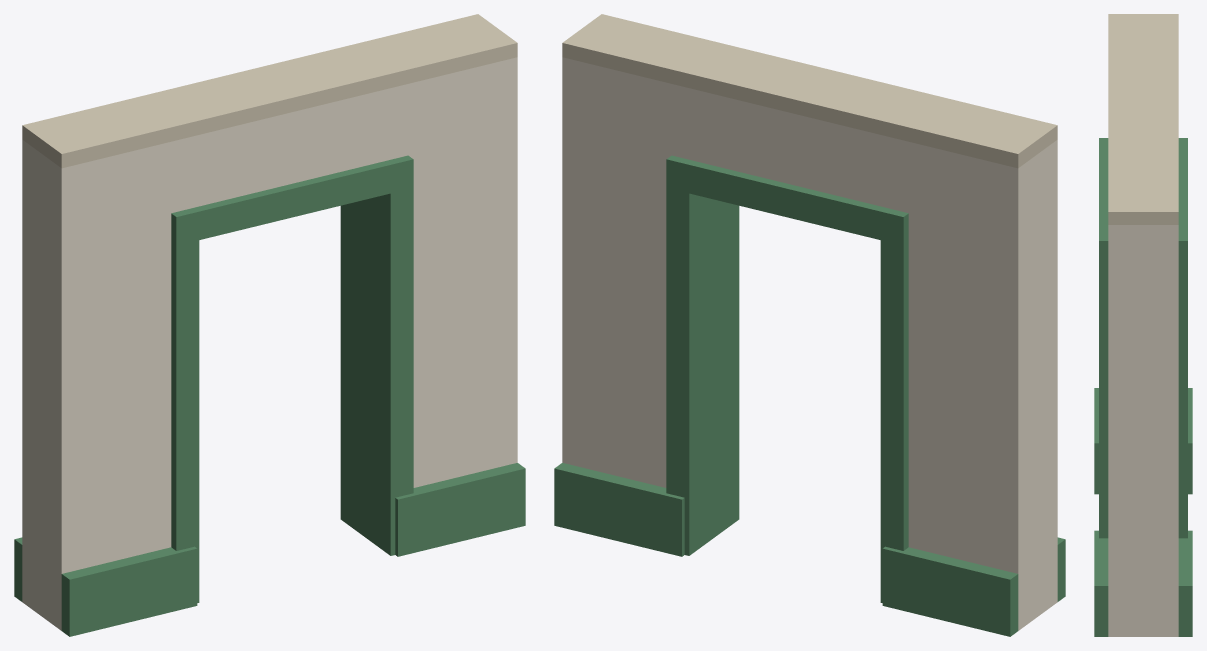
The model's file is wall-door.glb.
3 views of the same model, side by side, from view 1: azimuth 30°, elevation 25°; view 2: azimuth 150°, elevation 25°; view 3: azimuth 270°, elevation 25° (orthographic). The views are drawn at different scales.
Visible parts, largest first — view 1: wall-door; view 2: wall-door; view 3: wall-door.
Boxes of the visible parts, box(x1,y1,x2,y2) form: wall-door: box(14, 14, 525, 636); wall-door: box(554, 14, 1065, 636); wall-door: box(1094, 14, 1192, 636).
Size of the model in its own units: 1 by 1 by 0.21.
Materials: 1 (1 with a texture image).
